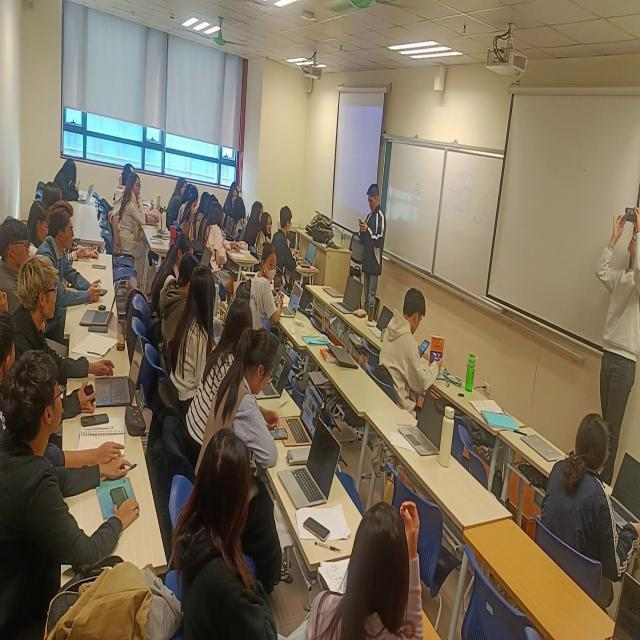raise_hand: (283, 494, 429, 640)
raise_head: (1, 343, 148, 640), (1, 252, 103, 386), (184, 298, 255, 454), (28, 201, 107, 315), (1, 209, 38, 307), (1, 309, 20, 397), (167, 177, 189, 232), (124, 164, 136, 177)
stand: (593, 186, 640, 498), (351, 177, 390, 335)
using_computer: (528, 401, 640, 588), (270, 204, 321, 290)
using_phone: (193, 321, 293, 492), (372, 286, 447, 433), (52, 157, 82, 208)
